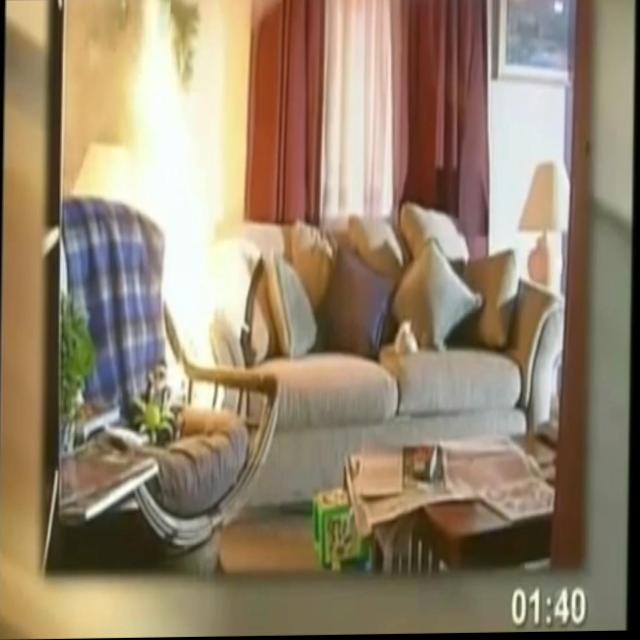fire: (107, 0, 252, 419)
